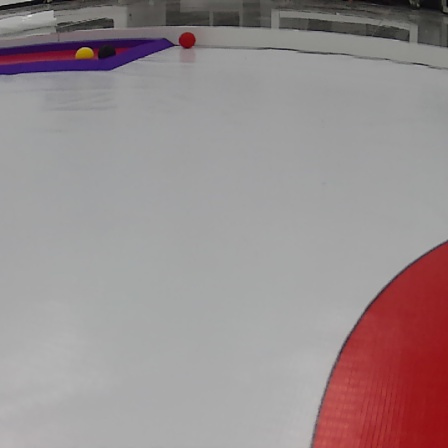black: (97, 44, 117, 60)
red: (176, 34, 197, 49)
red_aim: (0, 32, 175, 72)
red_base: (303, 238, 448, 448)
yellow: (74, 44, 94, 63)
